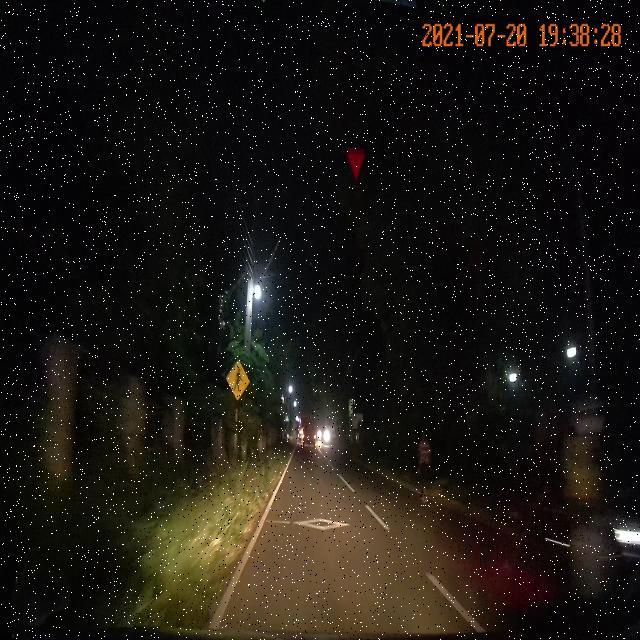diamond: (254, 517, 398, 539)
